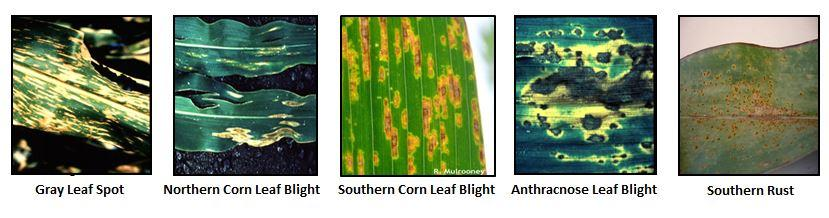Corn Gray leaf spot: (10, 21, 151, 176)
